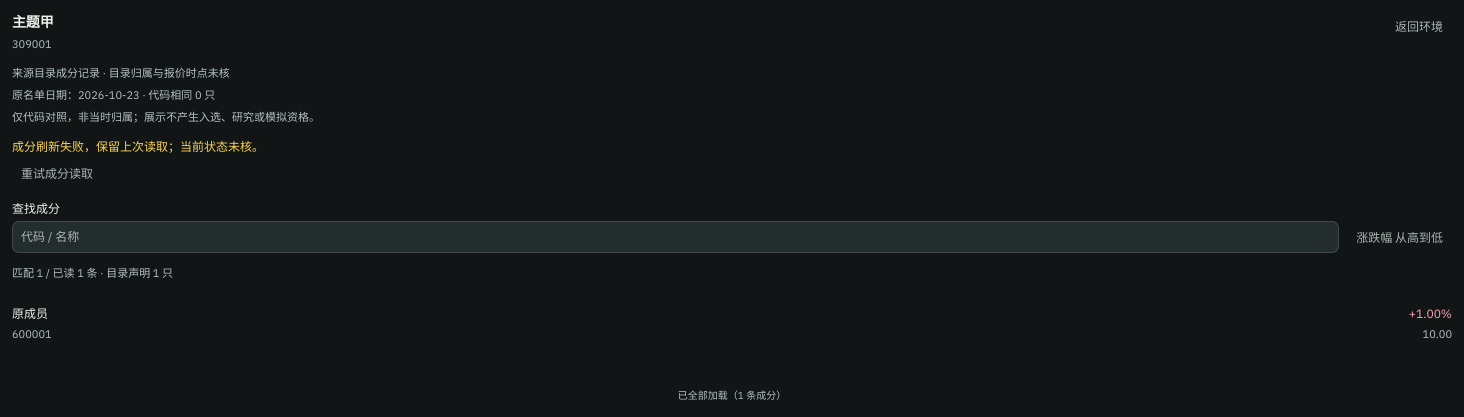
发现成分是原右栏只读参考 › retains a same-scope failed read explicitly and recovers without inventing an empty result
Check: the message shows "成分刷新失败，保留上次读取", box [12,139,264,154]
Check: the link "原成员" is shown, box [12,306,48,321]
Click the button "重试成分读取". click: point(57, 174)
box: [12,159,102,189]
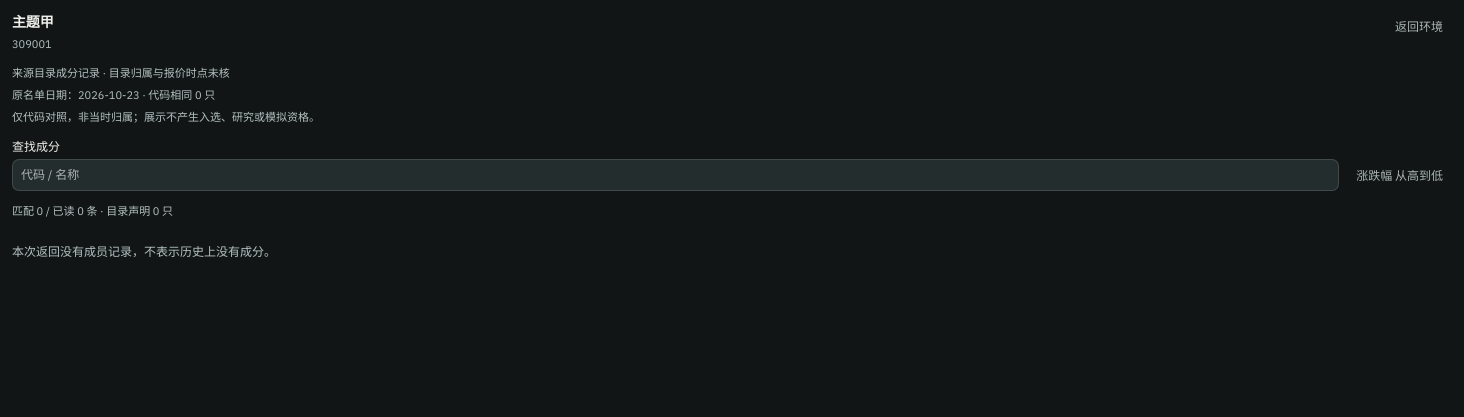
Check: the text "本次返回没有成员记录，不表示历史上没有成分。" is shown, box [12,244,276,259]
